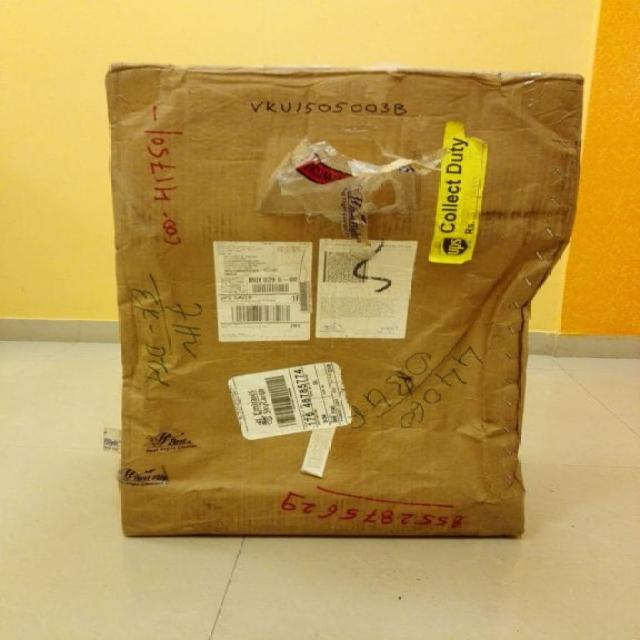box: (28, 438, 548, 640), (97, 119, 456, 350), (247, 315, 553, 571), (58, 313, 259, 512)
